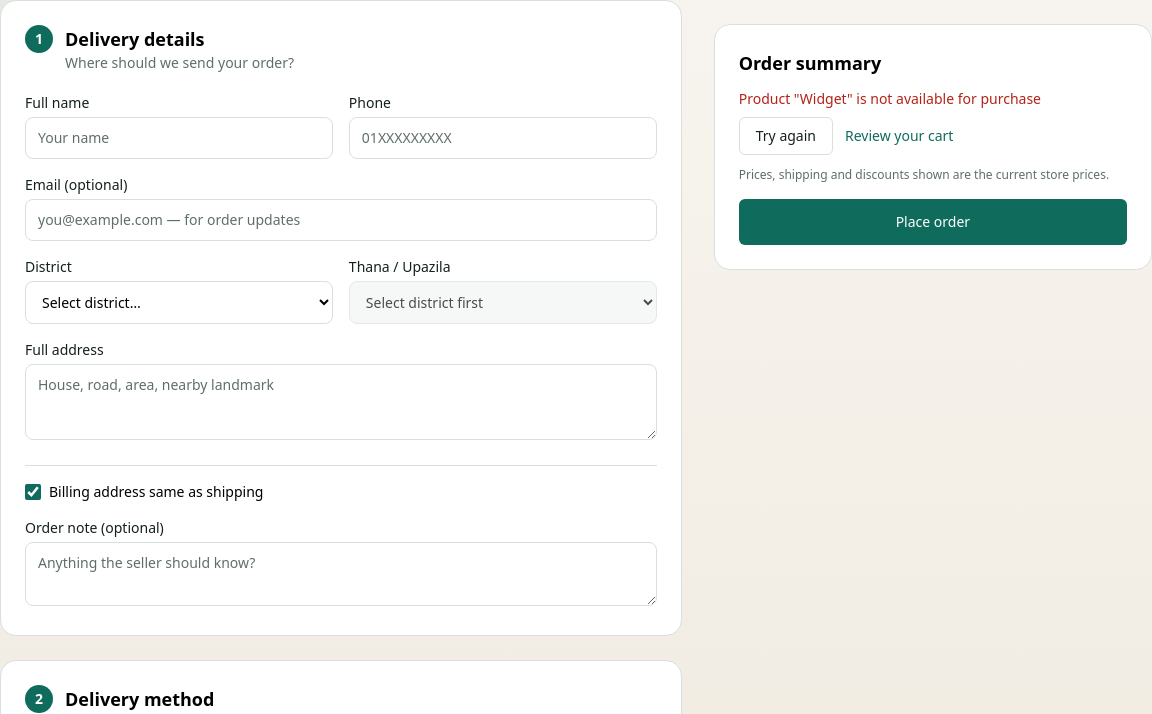
CheckoutForm — SF-03 server pricing › blocks ordering and explains when a cart item is no longer available
Expected: the text "Product \"Widget\" is not available for purchase" is shown, top-left (739, 89), bottom-right (1041, 108)
In the field labelled "Full name": (179, 138) top-left (25, 117), bottom-right (333, 159), type "Ada Lovelace"
In the field labelled "Phone": (503, 138) top-left (349, 117), bottom-right (657, 159), type "01711000000"
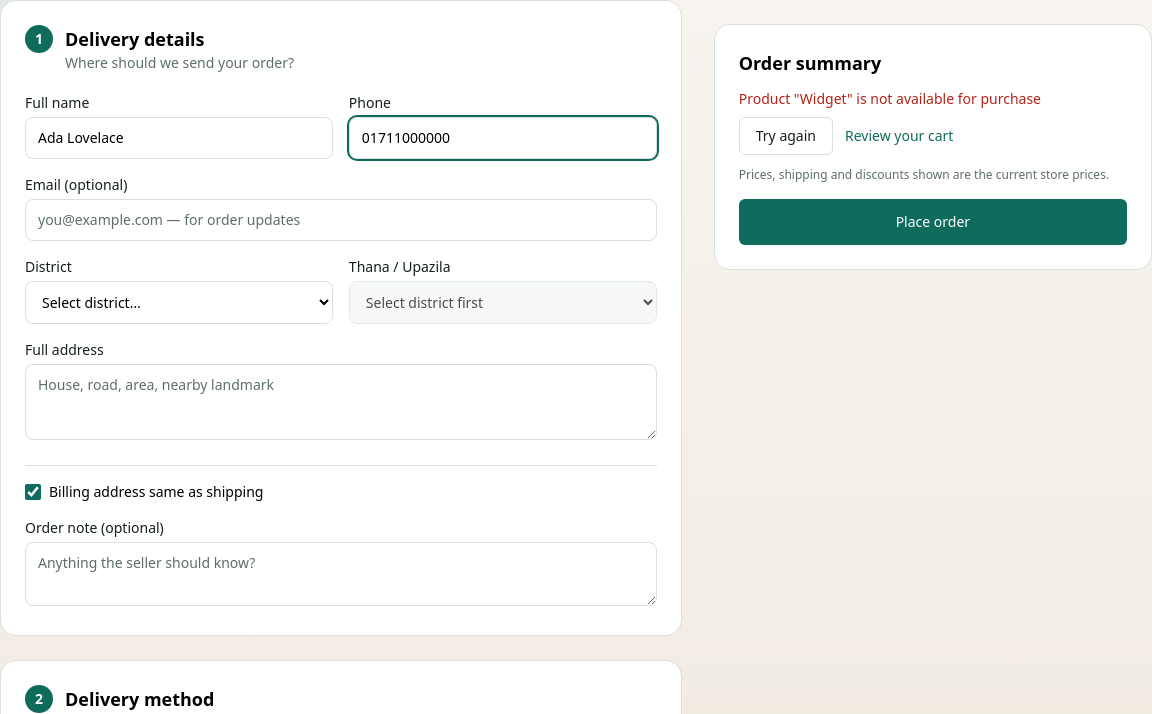
In the field labelled "Email (optional)": (341, 220) top-left (25, 199), bottom-right (657, 241), type "ada@example.com"
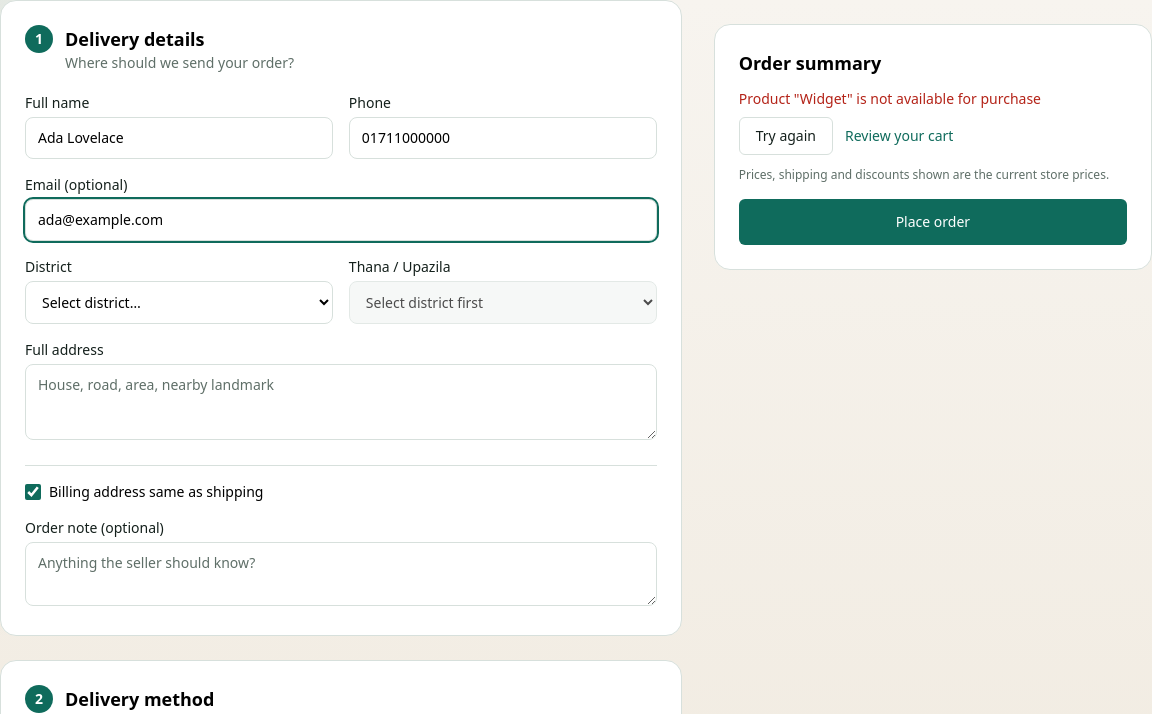
Select "Dhaka" in the dropdown labelled "District": (179, 302) top-left (25, 281), bottom-right (333, 324)
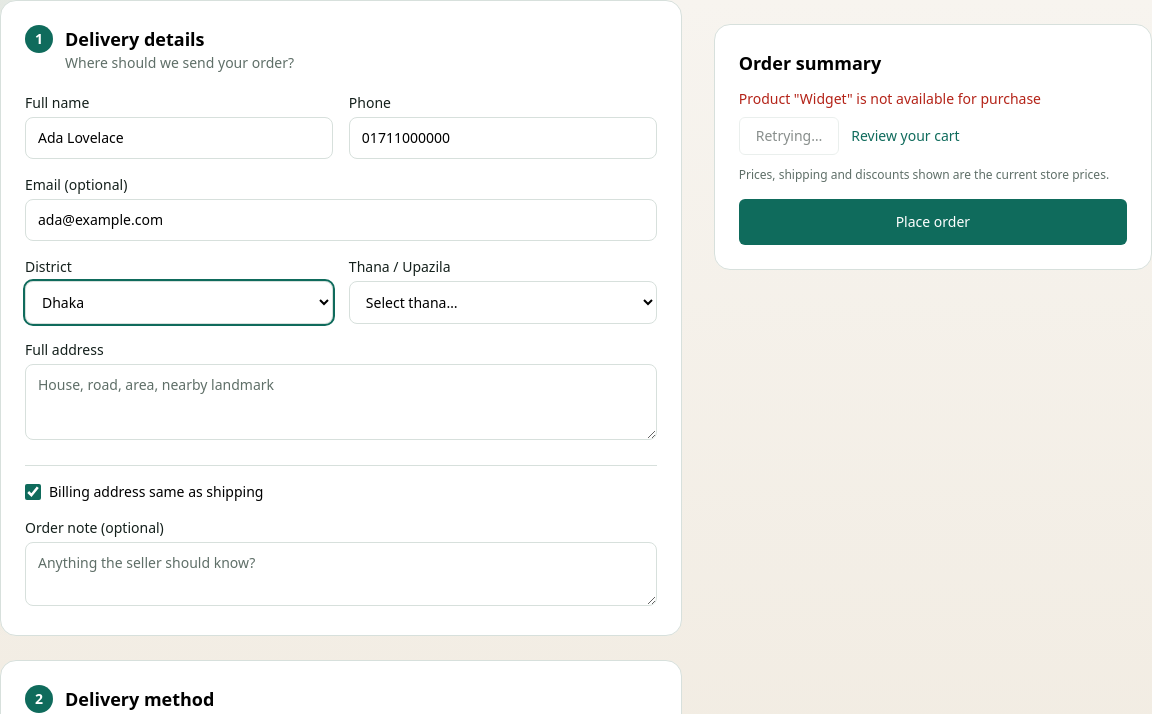
Result: the dropdown labelled "Thana / Upazila" is enabled
Select "Tejgaon" in the dropdown labelled "Thana / Upazila": (503, 302) top-left (349, 281), bottom-right (657, 324)
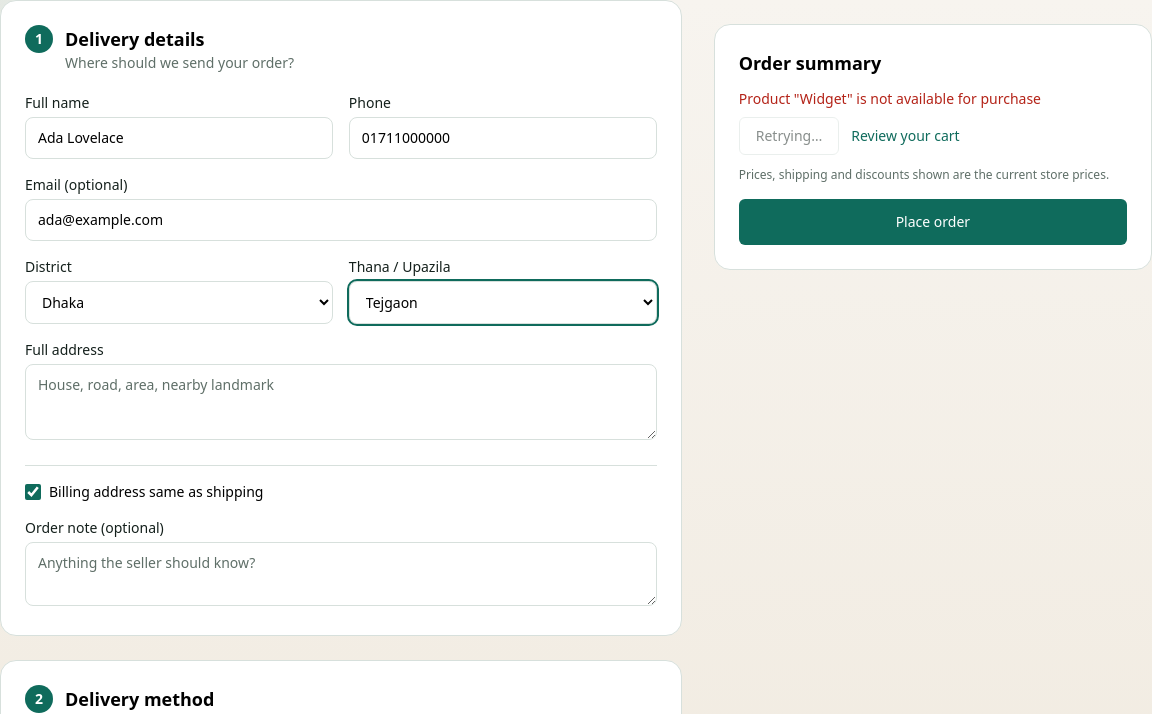
In the text box labelled "Full address": (341, 402) top-left (25, 364), bottom-right (657, 440), type "123 Main"
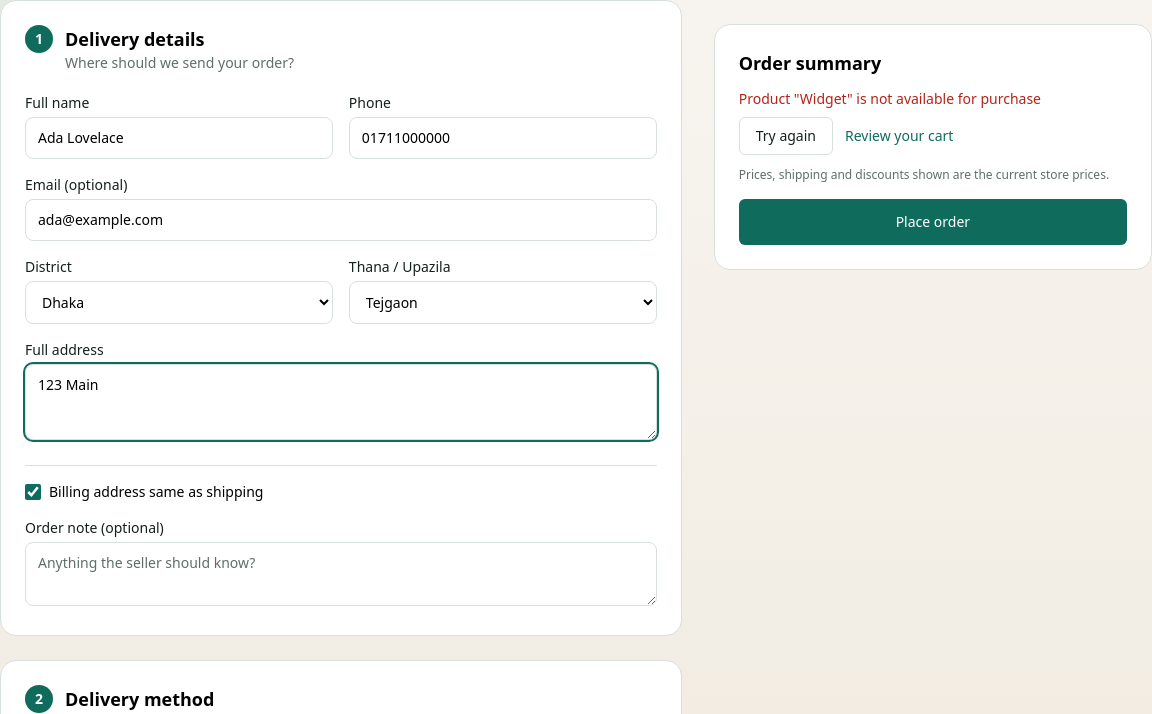
Expected: the text "Product \"Widget\" is not available for purchase" is shown, top-left (739, 89), bottom-right (1041, 108)
Result: the button "Try again" is enabled at top-left (739, 117), bottom-right (833, 155)
Click the button "Place order": (933, 222) top-left (739, 199), bottom-right (1127, 245)
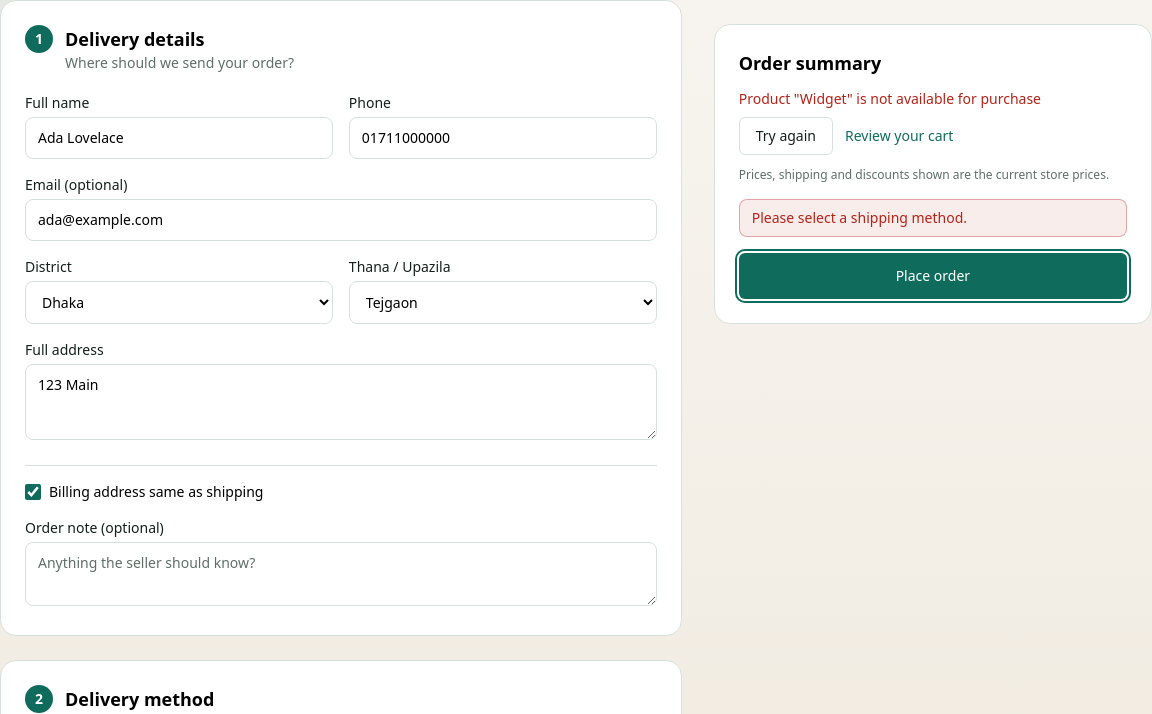
Result: the text "Please select a shipping method." is shown at top-left (739, 199), bottom-right (1127, 237)
